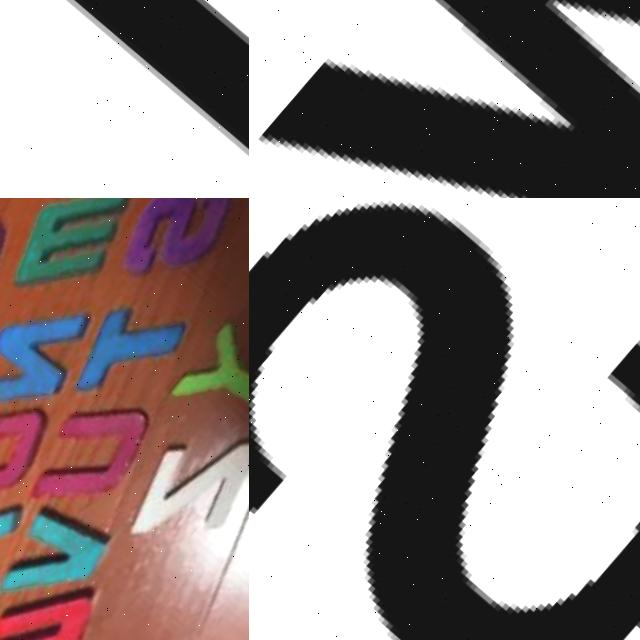I: (0, 0, 249, 198)
M: (0, 198, 150, 319)
N: (0, 278, 114, 446)
O: (0, 384, 58, 539)
S: (249, 198, 640, 640), (100, 198, 249, 312)
T: (51, 282, 197, 434)
U: (12, 384, 164, 542)
V: (0, 495, 110, 631)
W: (249, 0, 640, 198), (0, 559, 118, 640)
Y: (168, 327, 249, 450)
Z: (99, 410, 249, 591)
